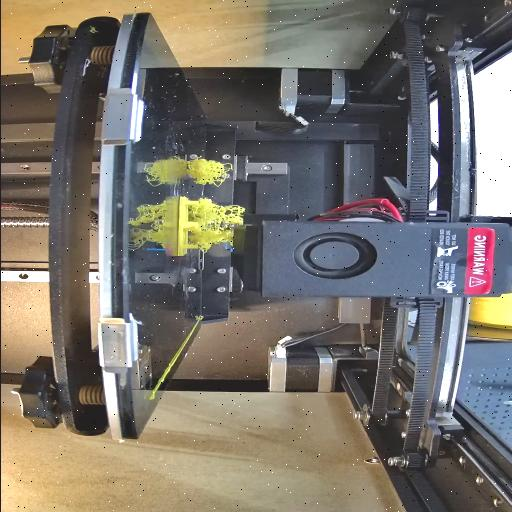spaghetti: (188, 198, 246, 256), (184, 157, 234, 189)
